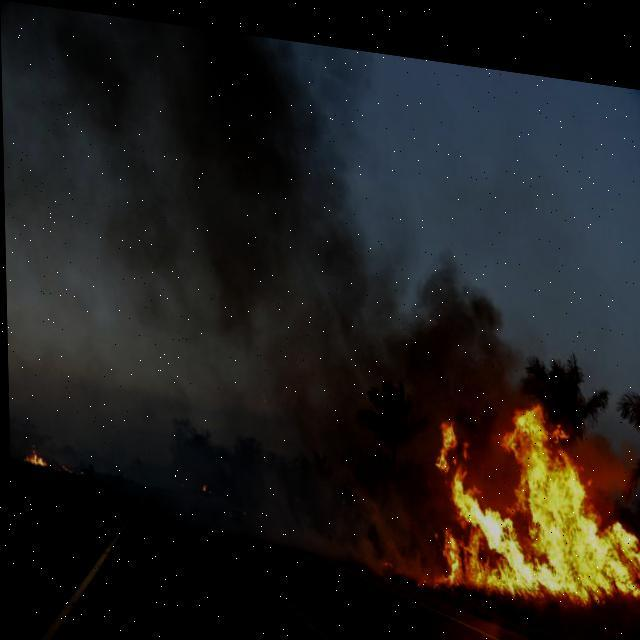Fire: (418, 383, 639, 602), (22, 446, 46, 466)
